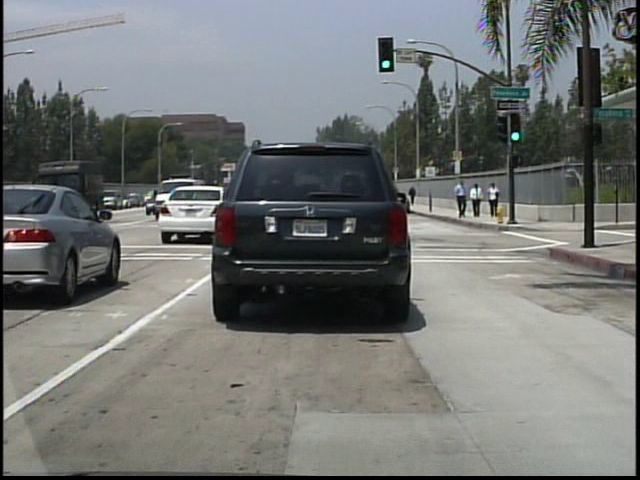person: (455, 178, 470, 220), (470, 181, 484, 218), (487, 181, 501, 217), (408, 184, 417, 207)
